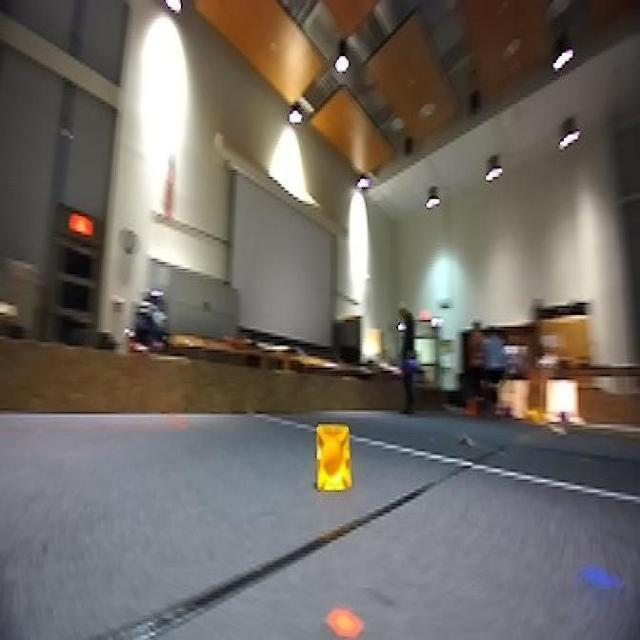frc_cone: (310, 420, 359, 497)
